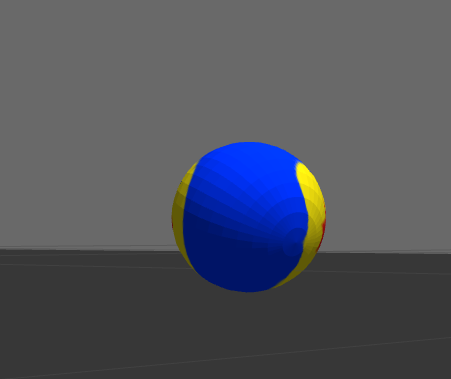toy story ball: (172, 141, 326, 292)
